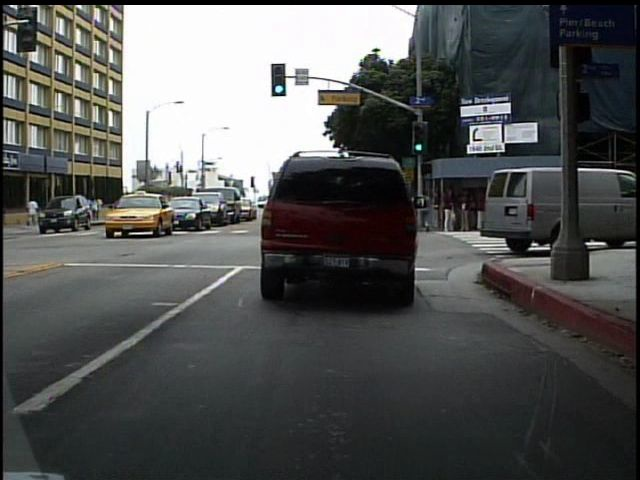person: (506, 173, 529, 237), (23, 194, 40, 230)
